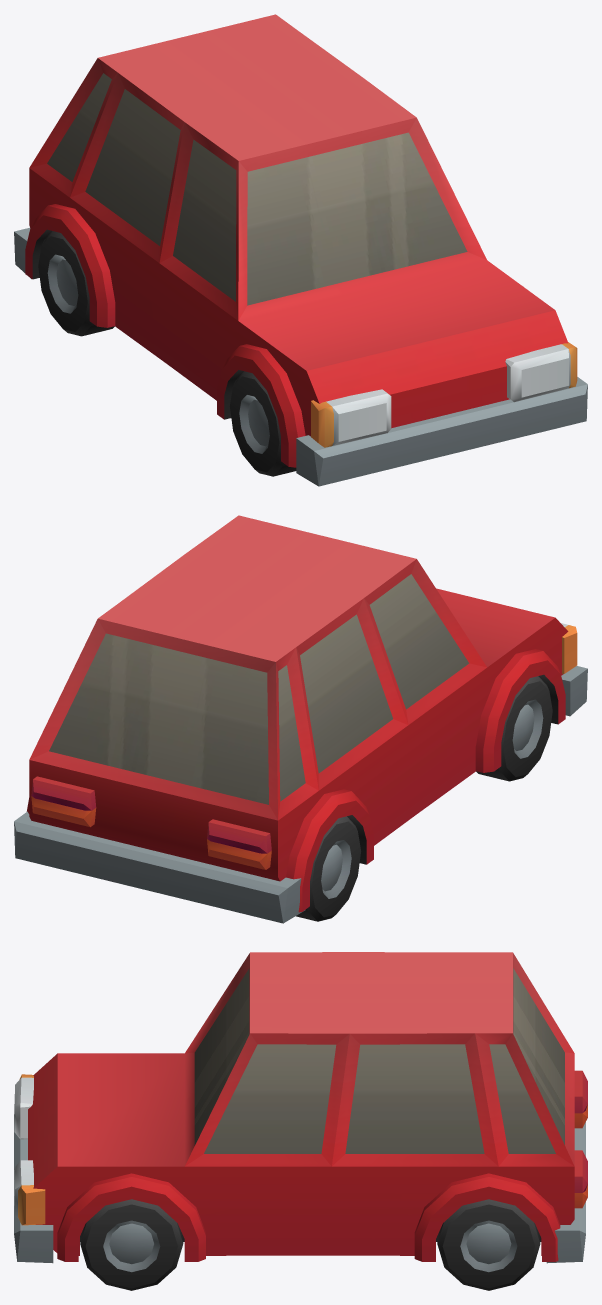
The model's file is traffic-mini-lod0.glb.
3 renders of one model, top to bottom at view 1: azimuth 30°, elevation 25°; view 2: azimuth 150°, elevation 25°; view 3: azimuth 270°, elevation 25°, orthographic. The views are drawn at different scales.
Parts seen in each view (by area): view 1: car_hatchback; view 2: car_hatchback; view 3: car_hatchback.
Part boxes in pixels (x1,y1,x2,y2): car_hatchback: [14, 14, 587, 486]; car_hatchback: [14, 515, 587, 923]; car_hatchback: [14, 952, 587, 1290].
Bounding box in the file's own units: 0.419 × 0.3688 × 0.8061.
1 material, 1 textured.
